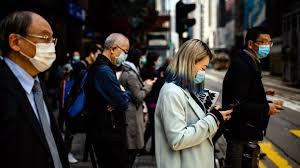mask: (8, 13, 59, 76), (183, 31, 211, 89), (101, 27, 130, 71), (248, 24, 275, 64), (69, 49, 81, 64)
